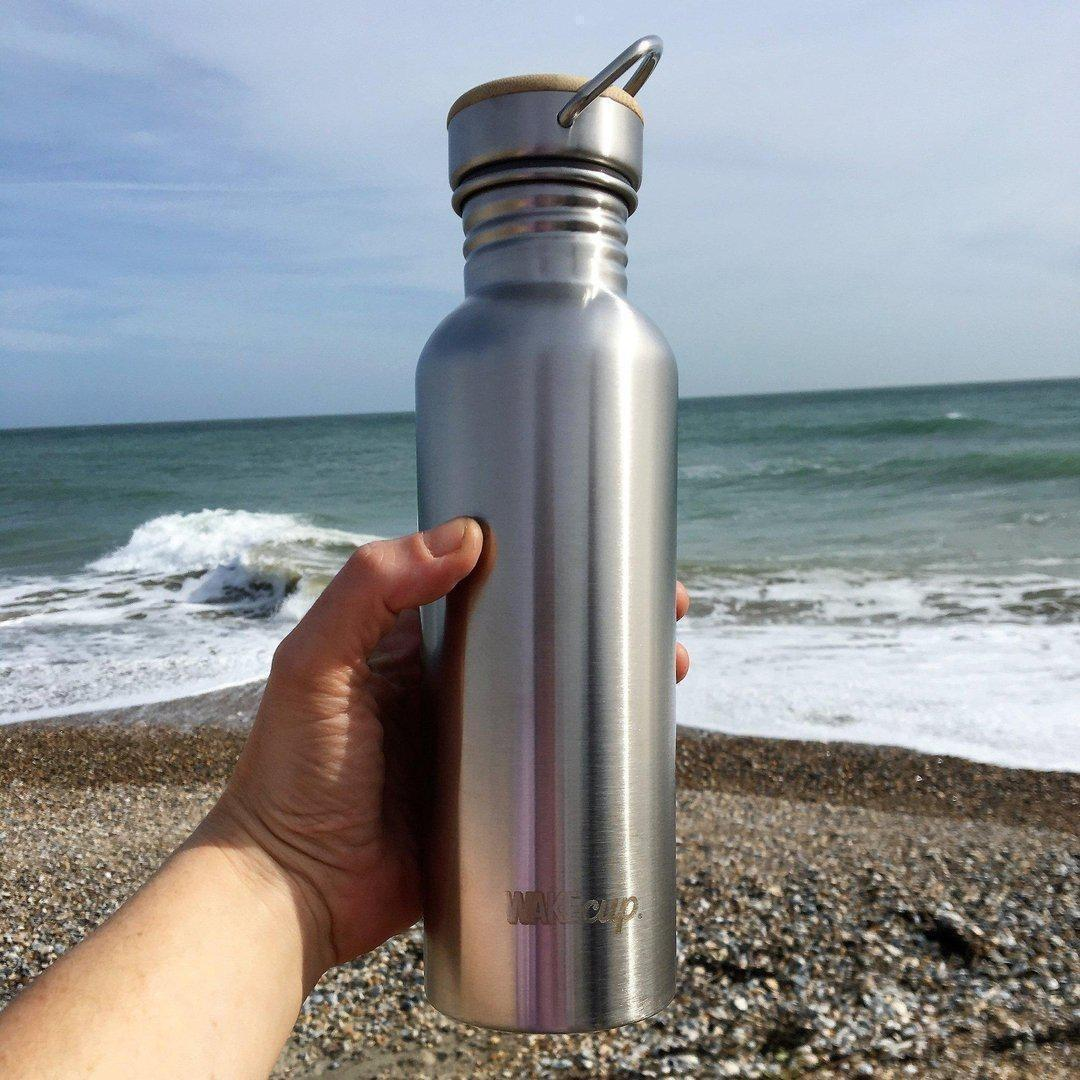gym bottle: (402, 62, 693, 1046)
